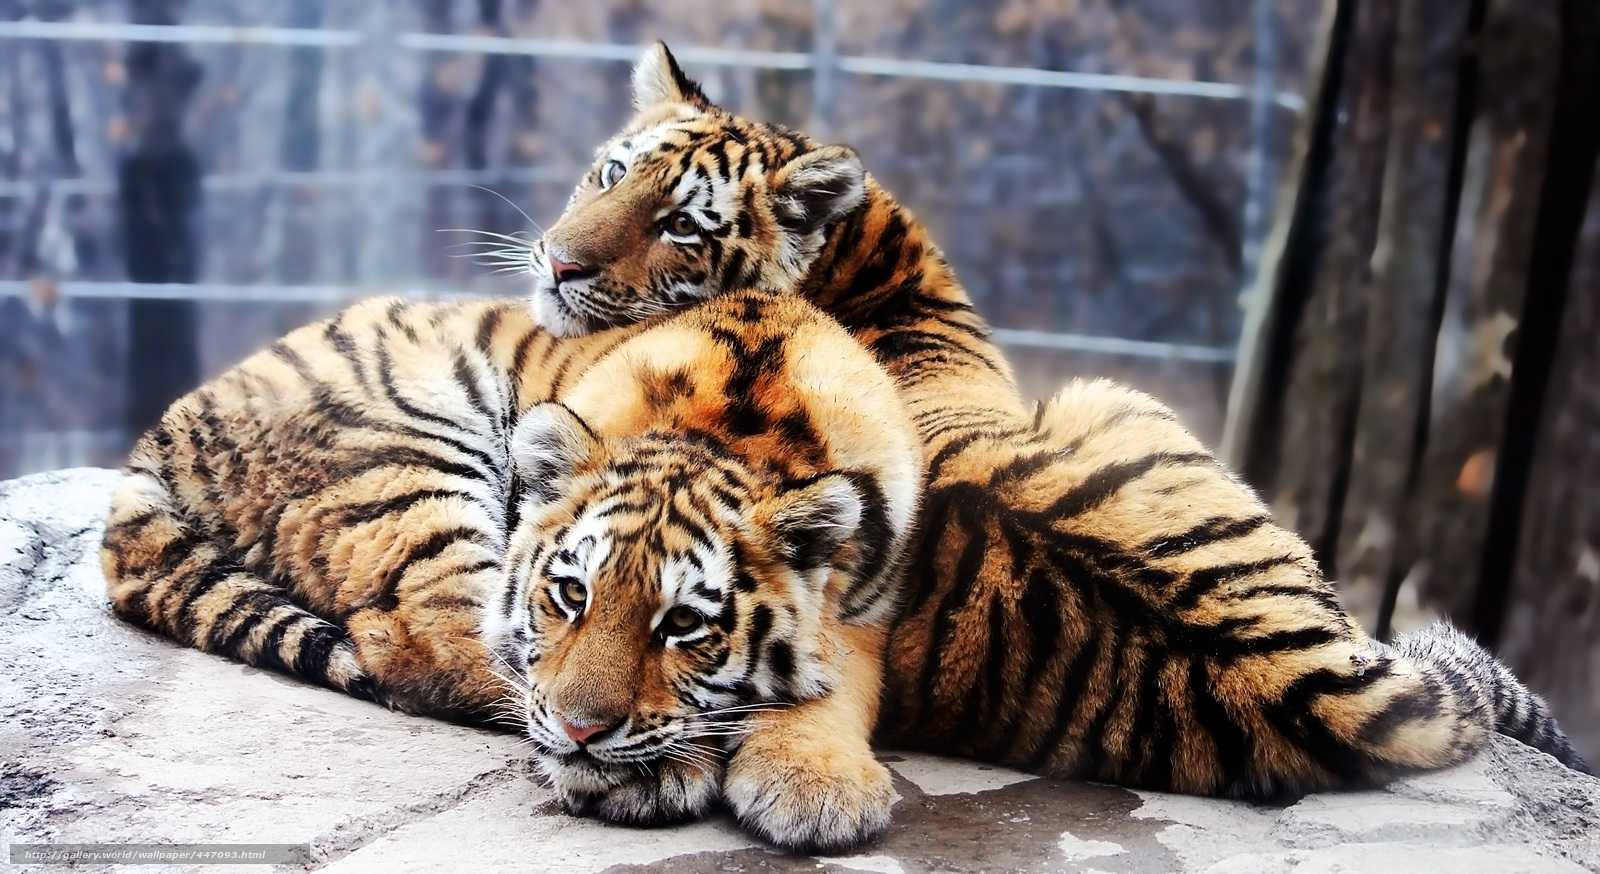Tigrew: (105, 291, 971, 874), (512, 59, 1006, 372)
